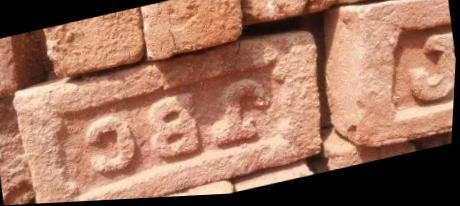brick: (7, 23, 337, 205), (339, 0, 459, 151), (39, 7, 148, 80), (138, 0, 248, 62), (0, 92, 39, 206), (238, 0, 341, 26), (0, 35, 20, 98), (334, 0, 447, 9)
